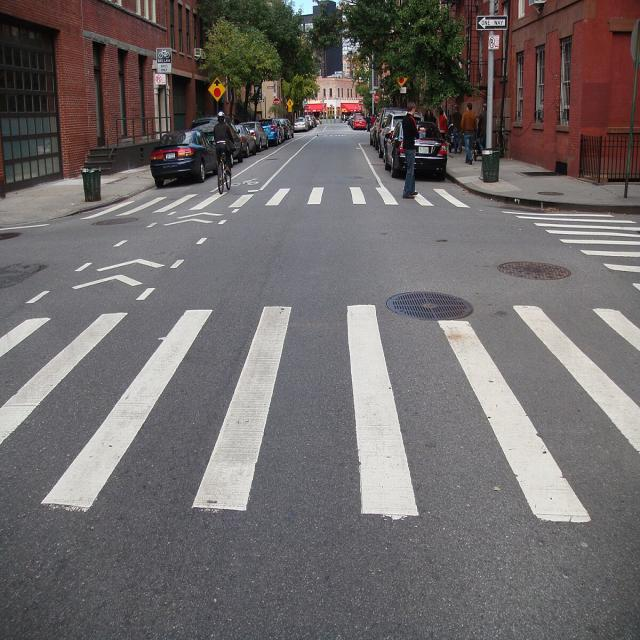road_crosswalk: (2, 300, 639, 520), (85, 184, 482, 220), (504, 207, 640, 299)
